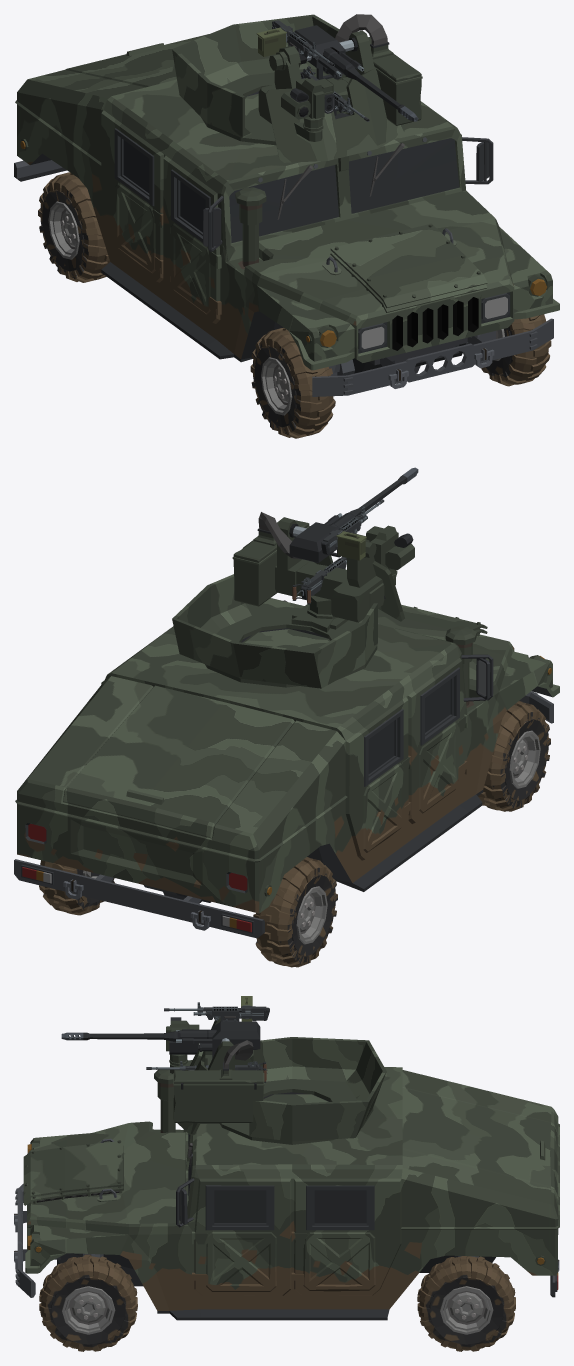
The model's file is SM_Veh_Light_Armored_Car_01.fbx.
The picture shows the model from 3 angles, top to bottom: view 1: azimuth 30°, elevation 25°; view 2: azimuth 150°, elevation 25°; view 3: azimuth 270°, elevation 25°; orthographic projection. The views are drawn at different scales.
Parts seen in each view (by area): view 1: SM_Veh_Light_Armored_Car_01, SM_Veh_Light_Armored_Car_01_Gunner, SM_Veh_Light_Armored_Car_Glass_01, SM_Veh_Light_Armored_Car_01_Remote_Weapon_Top, SM_Veh_Light_Armored_Car_01_Wheel_fr, SM_Veh_Light_Armored_Car_01_Wheel_rr, SM_Veh_Light_Armored_Car_01_Remote_Weapon_Guns, SM_Veh_Light_Armored_Car_01_Wheel_fl, SM_Veh_Light_Armored_Car_01_Remote_Weapon_Radar; view 2: SM_Veh_Light_Armored_Car_01, SM_Veh_Light_Armored_Car_01_Gunner, SM_Veh_Light_Armored_Car_01_Remote_Weapon_Top, SM_Veh_Light_Armored_Car_01_Wheel_rr, SM_Veh_Light_Armored_Car_01_Wheel_fr, SM_Veh_Light_Armored_Car_01_Remote_Weapon_Guns, SM_Veh_Light_Armored_Car_Glass_01, SM_Veh_Light_Armored_Car_01_Remote_Weapon_Radar, SM_Veh_Light_Armored_Car_01_Wheel_rl, SM_Veh_Light_Armored_Car_01_Plug, SM_Veh_Light_Armored_Car_01_Weapon; view 3: SM_Veh_Light_Armored_Car_01, SM_Veh_Light_Armored_Car_01_Gunner, SM_Veh_Light_Armored_Car_01_Wheel_fl, SM_Veh_Light_Armored_Car_01_Wheel_rl, SM_Veh_Light_Armored_Car_01_Remote_Weapon_Top, SM_Veh_Light_Armored_Car_01_Remote_Weapon_Guns, SM_Veh_Light_Armored_Car_Glass_01, SM_Veh_Light_Armored_Car_01_Remote_Weapon_Radar, SM_Veh_Light_Armored_Car_01_Weapon, SM_Veh_Light_Armored_Car_01_Plug.
Boxes of the visible parts, x1=… form: SM_Veh_Light_Armored_Car_01: x1=14, y1=34, x2=559, y2=396; SM_Veh_Light_Armored_Car_01_Gunner: x1=172, y1=14, x2=405, y2=162; SM_Veh_Light_Armored_Car_Glass_01: x1=123, y1=138, x2=459, y2=242; SM_Veh_Light_Armored_Car_01_Remote_Weapon_Top: x1=258, y1=14, x2=422, y2=141; SM_Veh_Light_Armored_Car_01_Wheel_fr: x1=250, y1=328, x2=335, y2=438; SM_Veh_Light_Armored_Car_01_Wheel_rr: x1=38, y1=172, x2=110, y2=282; SM_Veh_Light_Armored_Car_01_Remote_Weapon_Guns: x1=256, y1=20, x2=418, y2=121; SM_Veh_Light_Armored_Car_01_Wheel_fl: x1=481, y1=314, x2=551, y2=386; SM_Veh_Light_Armored_Car_01_Remote_Weapon_Radar: x1=281, y1=78, x2=334, y2=131; SM_Veh_Light_Armored_Car_01: x1=14, y1=598, x2=559, y2=938; SM_Veh_Light_Armored_Car_01_Gunner: x1=172, y1=555, x2=404, y2=688; SM_Veh_Light_Armored_Car_01_Remote_Weapon_Top: x1=232, y1=512, x2=395, y2=622; SM_Veh_Light_Armored_Car_01_Wheel_rr: x1=253, y1=857, x2=337, y2=967; SM_Veh_Light_Armored_Car_01_Wheel_fr: x1=478, y1=701, x2=550, y2=811; SM_Veh_Light_Armored_Car_01_Remote_Weapon_Guns: x1=289, y1=467, x2=418, y2=562; SM_Veh_Light_Armored_Car_Glass_01: x1=368, y1=679, x2=450, y2=773; SM_Veh_Light_Armored_Car_01_Remote_Weapon_Radar: x1=366, y1=525, x2=414, y2=577; SM_Veh_Light_Armored_Car_01_Wheel_rl: x1=39, y1=860, x2=114, y2=915; SM_Veh_Light_Armored_Car_01_Plug: x1=242, y1=629, x2=329, y2=651; SM_Veh_Light_Armored_Car_01_Weapon: x1=292, y1=556, x2=346, y2=604; SM_Veh_Light_Armored_Car_01: x1=14, y1=1067, x2=559, y2=1320; SM_Veh_Light_Armored_Car_01_Gunner: x1=173, y1=1037, x2=386, y2=1144; SM_Veh_Light_Armored_Car_01_Wheel_fl: x1=39, y1=1254, x2=137, y2=1351; SM_Veh_Light_Armored_Car_01_Wheel_rl: x1=417, y1=1256, x2=515, y2=1351; SM_Veh_Light_Armored_Car_01_Remote_Weapon_Top: x1=170, y1=1017, x2=264, y2=1122; SM_Veh_Light_Armored_Car_01_Remote_Weapon_Guns: x1=61, y1=996, x2=269, y2=1058; SM_Veh_Light_Armored_Car_Glass_01: x1=188, y1=1134, x2=366, y2=1223; SM_Veh_Light_Armored_Car_01_Remote_Weapon_Radar: x1=166, y1=1017, x2=199, y2=1065; SM_Veh_Light_Armored_Car_01_Weapon: x1=146, y1=1061, x2=267, y2=1082; SM_Veh_Light_Armored_Car_01_Plug: x1=263, y1=1094, x2=328, y2=1103.
Size of the model in its own units: 251 by 271 by 465.
